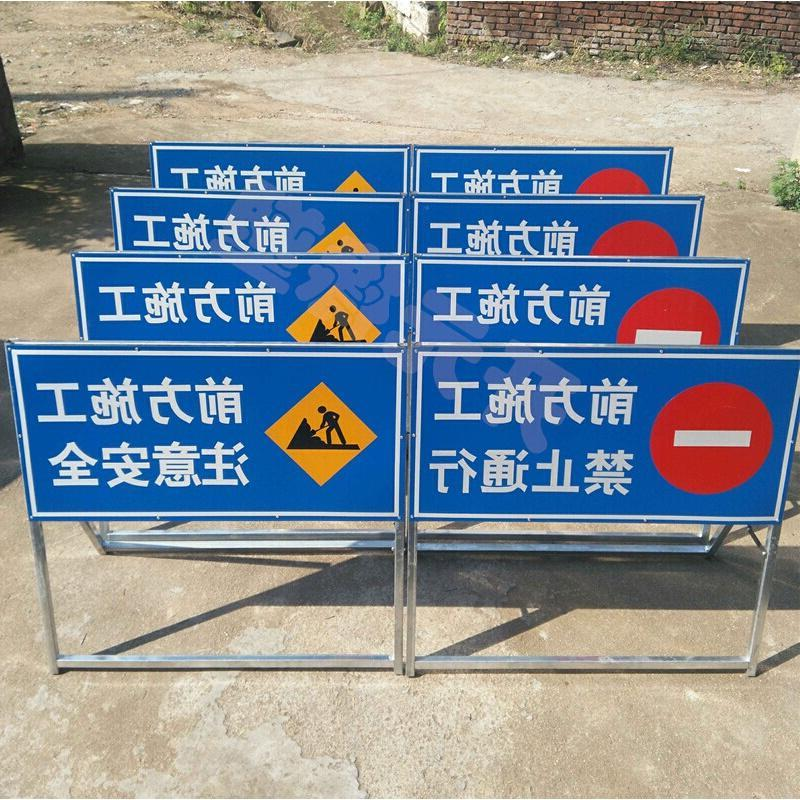sign: (10, 343, 402, 520), (414, 347, 798, 526), (414, 257, 745, 352), (68, 252, 402, 341), (110, 189, 404, 261), (416, 196, 702, 262), (417, 145, 675, 201), (149, 141, 405, 196)
